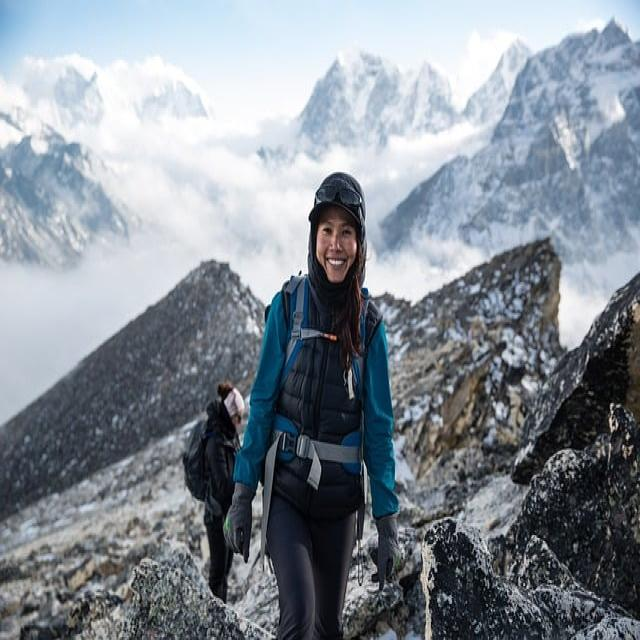Real human 2: (218, 163, 416, 640)
